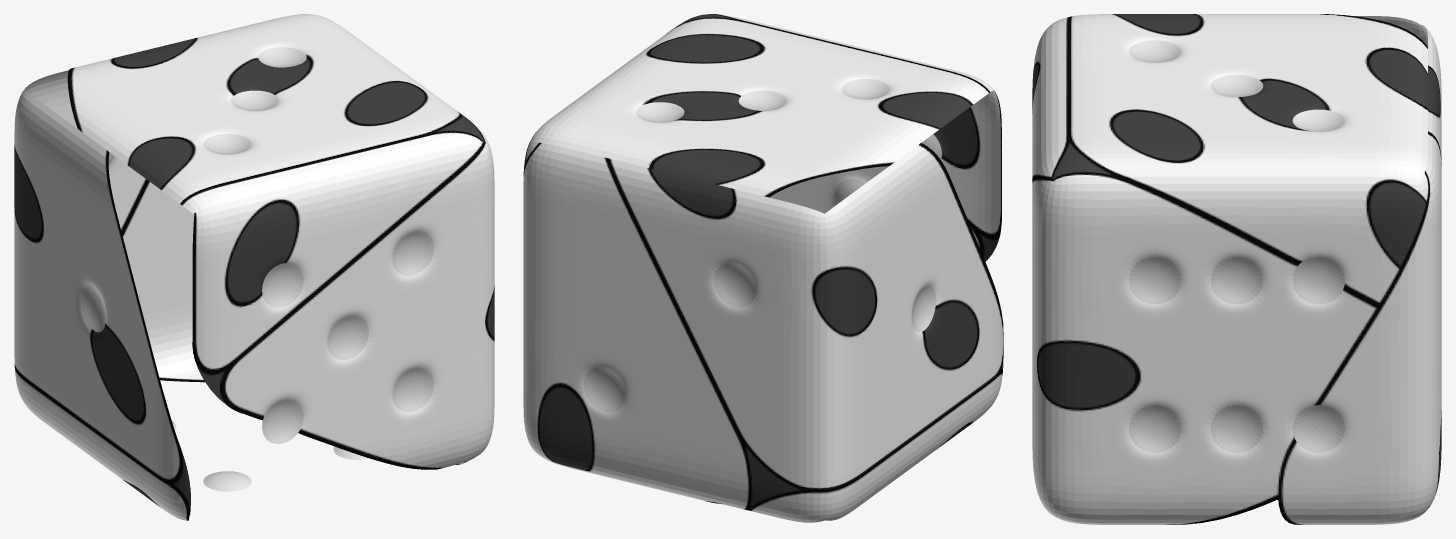
File: Die.fbx
3 views of the same model, side by side, from view 1: azimuth 30°, elevation 25°; view 2: azimuth 150°, elevation 25°; view 3: azimuth 270°, elevation 25° (orthographic). The views are drawn at different scales.
Visible parts, largest first — view 1: Cube; view 2: Cube; view 3: Cube.
Boxes of the visible parts, bbox=[...] form: Cube: bbox=[14, 14, 494, 520]; Cube: bbox=[523, 14, 1003, 522]; Cube: bbox=[1032, 14, 1441, 524].
Bounding box in the file's own units: 199 × 200 × 200.
